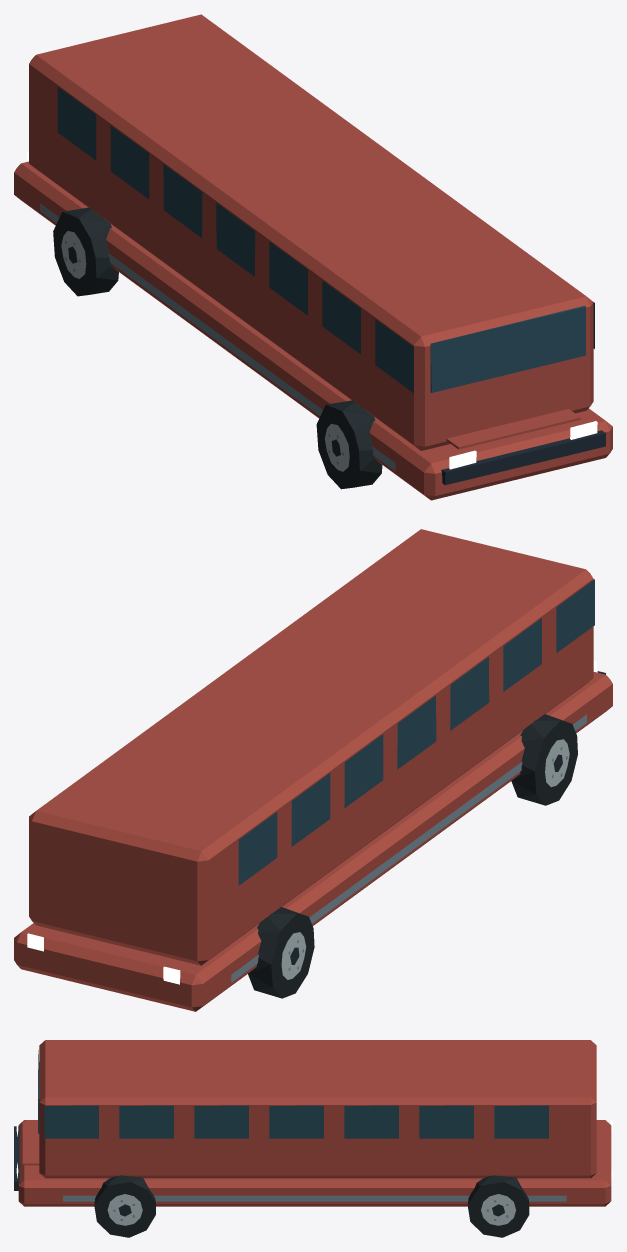
Rendered from road-bus.lod2.glb.
3 views of the same model, one above another, from view 1: azimuth 30°, elevation 25°; view 2: azimuth 150°, elevation 25°; view 3: azimuth 270°, elevation 25° (orthographic). The views are drawn at different scales.
Parts seen in each view (by area): view 1: road-bus__body, road-bus__wheel_steer_1_l, road-bus__wheel_steer_0_l; view 2: road-bus__body, road-bus__wheel_steer_1_l, road-bus__wheel_steer_0_l; view 3: road-bus__body, road-bus__wheel_steer_0_r, road-bus__wheel_steer_1_r.
Boxes of the visible parts, <box> form: road-bus__body: <box>14,14,612,500</box>; road-bus__wheel_steer_1_l: <box>53,207,118,296</box>; road-bus__wheel_steer_0_l: <box>316,400,382,489</box>; road-bus__body: <box>14,529,612,1011</box>; road-bus__wheel_steer_1_l: <box>248,907,314,998</box>; road-bus__wheel_steer_0_l: <box>511,714,577,805</box>; road-bus__body: <box>14,1040,612,1206</box>; road-bus__wheel_steer_0_r: <box>94,1175,155,1237</box>; road-bus__wheel_steer_1_r: <box>468,1175,529,1237</box>.
Size of the model in its own units: 2.84 by 2.25 by 9.3.
